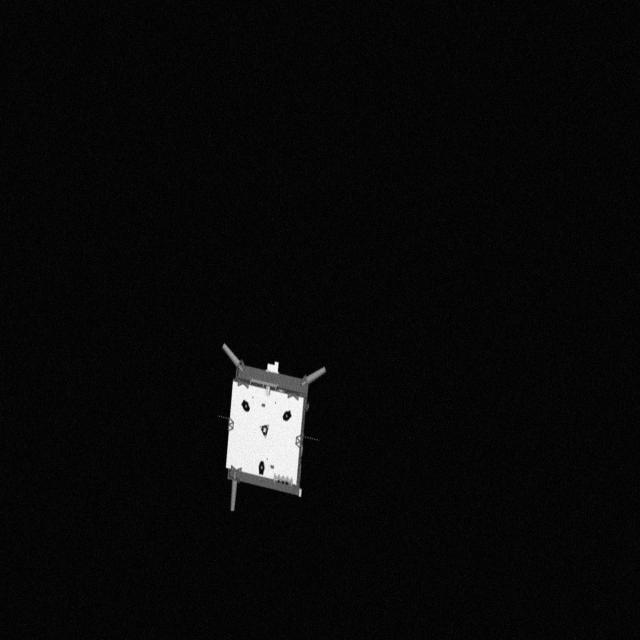medium_debris: (214, 342, 342, 524)
